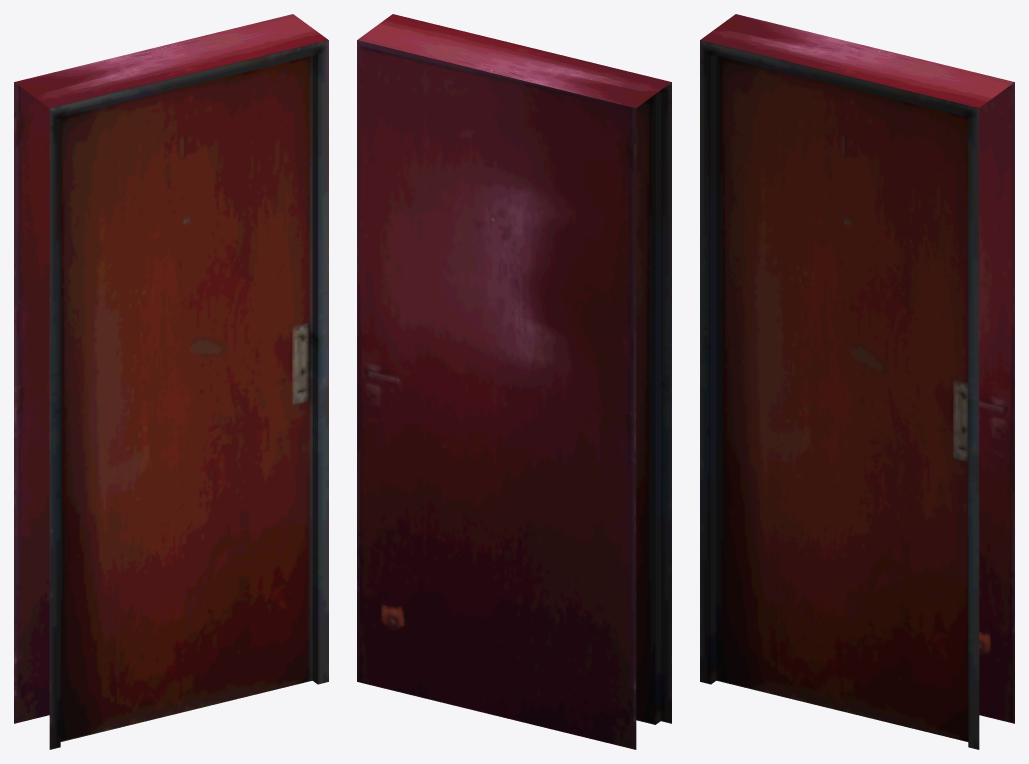
Rendered from pH10_MyHouse.fbx.
The picture shows the model from 3 angles, left to right: view 1: azimuth 30°, elevation 25°; view 2: azimuth 150°, elevation 25°; view 3: azimuth 330°, elevation 25°; orthographic projection.
Parts seen in each view (by area): view 1: pH10_MyHouse; view 2: pH10_MyHouse; view 3: pH10_MyHouse.
Boxes of the visible parts, x1=… form: pH10_MyHouse: x1=14, y1=14, x2=328, y2=749; pH10_MyHouse: x1=357, y1=14, x2=671, y2=749; pH10_MyHouse: x1=700, y1=14, x2=1014, y2=749.
Bounding box in the file's own units: 0.9092 × 2 × 0.2014.
